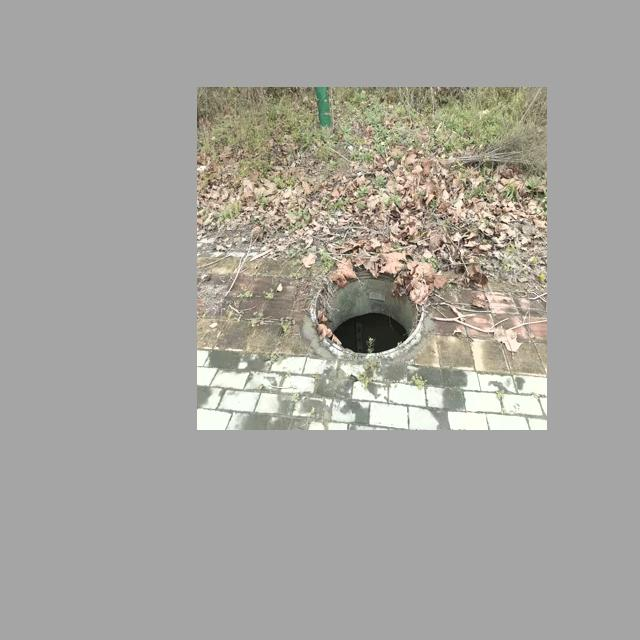lose: (312, 267, 425, 353)
